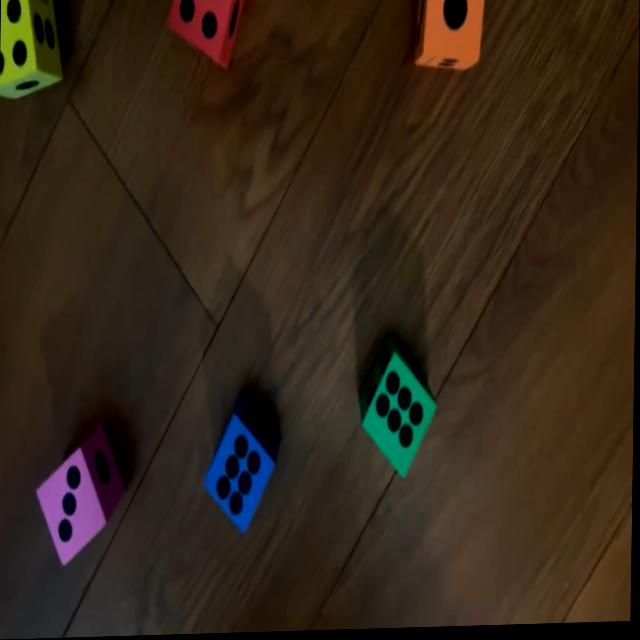cube: (359, 335, 438, 481), (205, 396, 282, 534), (167, 0, 244, 74)
